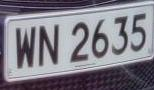2: (68, 16, 91, 69)
3: (110, 13, 130, 58)
5: (129, 9, 149, 55)
6: (89, 16, 112, 61)
N: (38, 20, 62, 74)
W: (12, 21, 39, 75)
